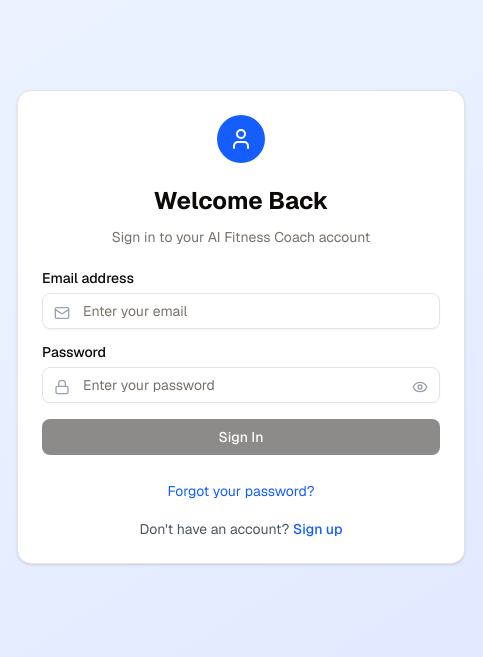
it: LoginPage › Form Validation › validates required fields in signup mode
Switch to signup mode
Click the button "Sign up" at (318, 529), box [293,519,342,539]
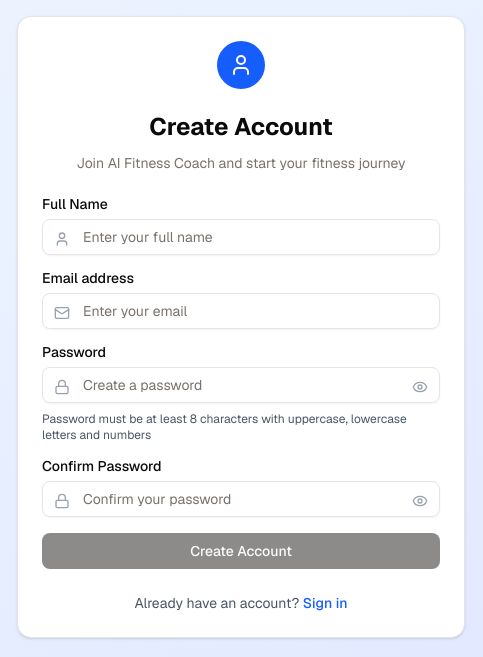
Expected: the button "Create Account" is disabled, [42,533,440,569]
Fill in all required fields
Type "John Doe" into the field labelled "Full Name" at (241, 237), box [42,219,440,255]
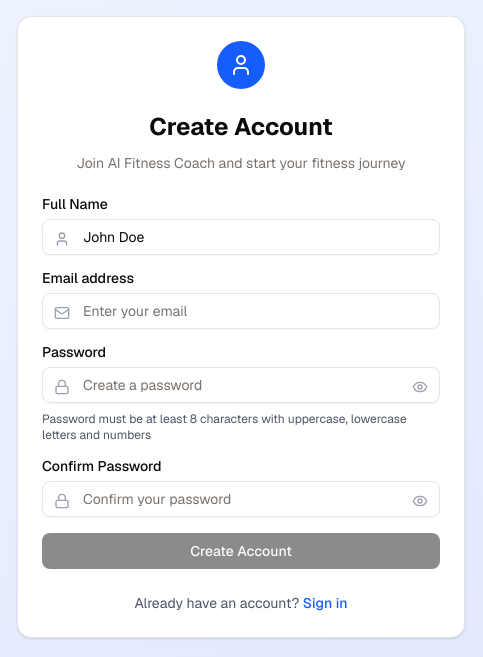
Type "test@example.com" into the field labelled "Email address" at (241, 311), box [42,293,440,329]
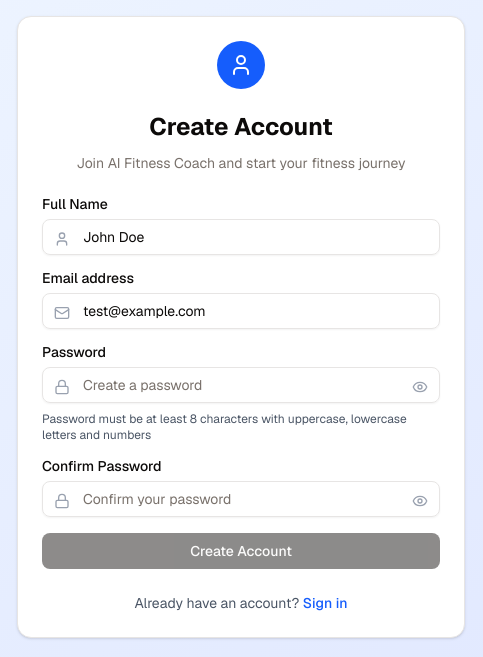
Type "Password123" into the password field labelled "Password" at (241, 385), box [42,367,440,403]
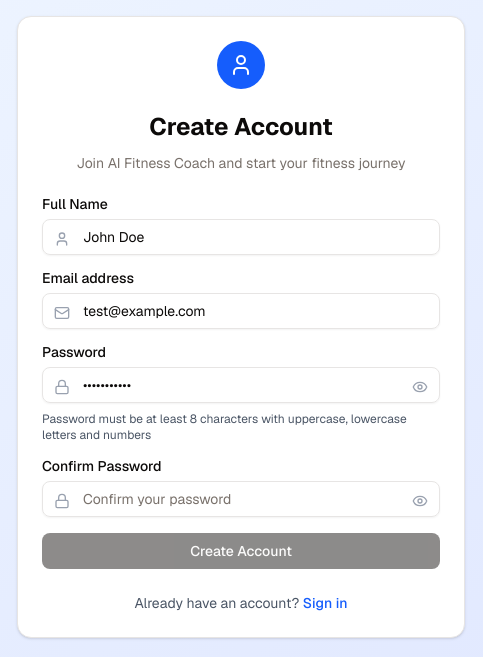
Type "Password123" into the password field labelled "Confirm Password" at (241, 499), box [42,481,440,517]
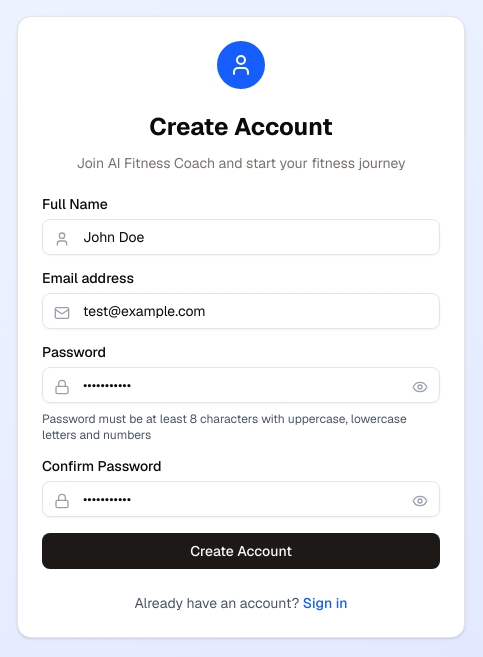
Result: the button "Create Account" is enabled at [42,533,440,569]
